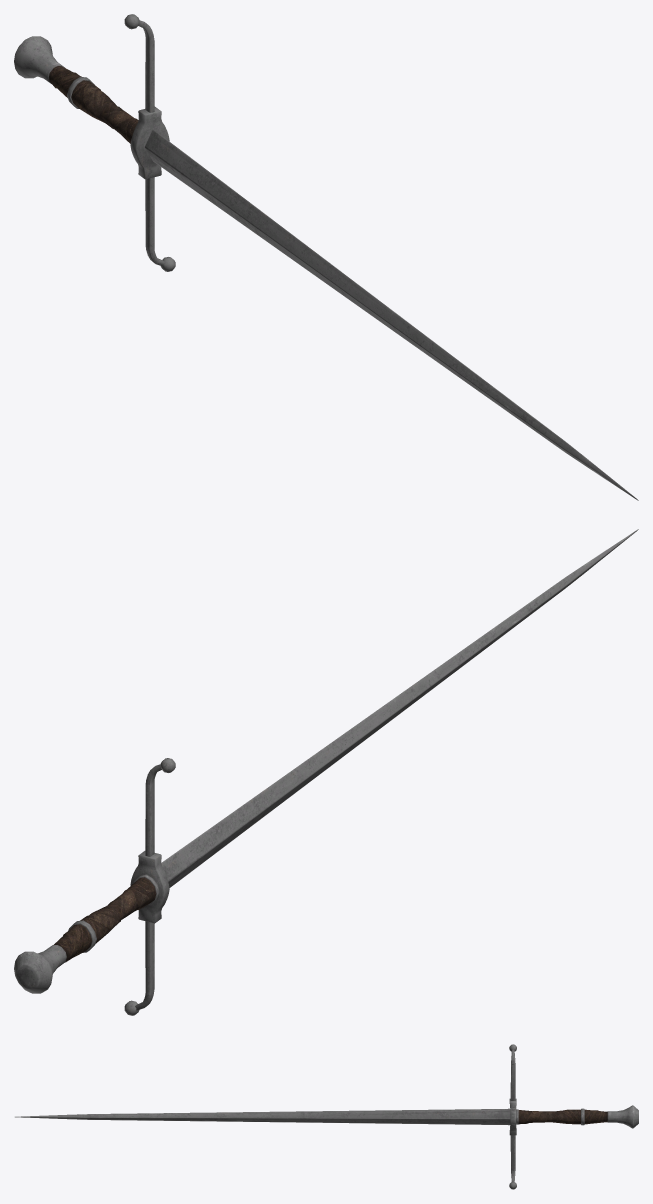
The model's file is estoc.fbx.
3 views of the same model, one above another, from view 1: azimuth 30°, elevation 25°; view 2: azimuth 150°, elevation 25°; view 3: azimuth 270°, elevation 25° (orthographic). The views are drawn at different scales.
Visible parts, largest first — view 1: WP_A_0300, WP_A_0300.001; view 2: WP_A_0300, WP_A_0300.001; view 3: WP_A_0300, WP_A_0300.001.
Part boxes in pixels (x1,y1,x2,y2): WP_A_0300: (14, 14, 638, 500); WP_A_0300.001: (49, 66, 138, 143); WP_A_0300: (14, 529, 638, 1015); WP_A_0300.001: (54, 877, 156, 962); WP_A_0300: (15, 1044, 638, 1189); WP_A_0300.001: (518, 1109, 607, 1124).
Size of the model in its own units: 6.85 by 35.57 by 149.
2 materials, 2 textured.
